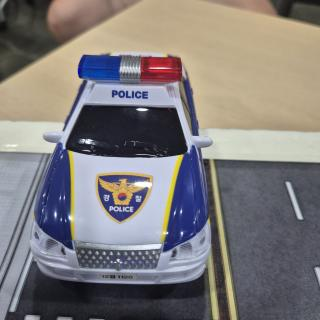Police_car: (30, 55, 212, 284)
